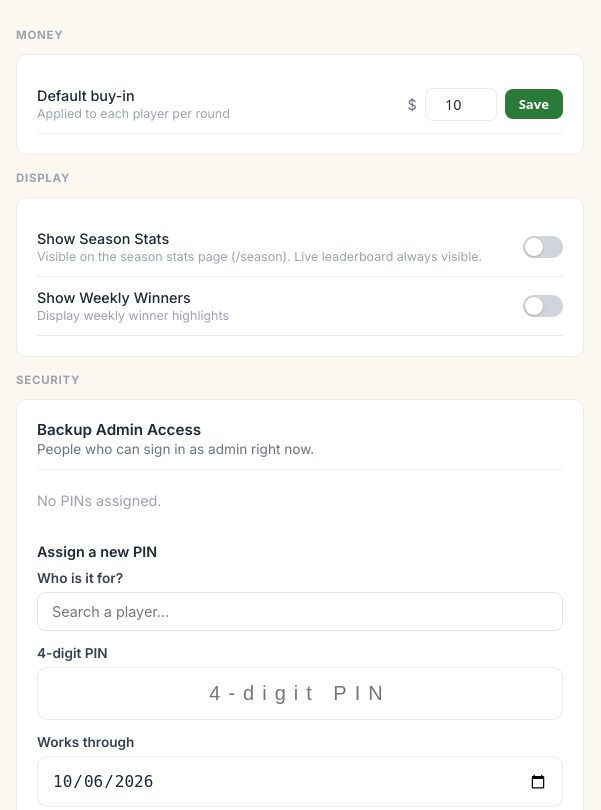
Test: Backup Admin Access — assign form › requires a player before assigning
This screenshot has width=601, height=810.
Type "1234" into the field with id "backup-pin-digits". click: (300, 694)
box: top-left (37, 667), bottom-right (563, 720)
(page scrolled)
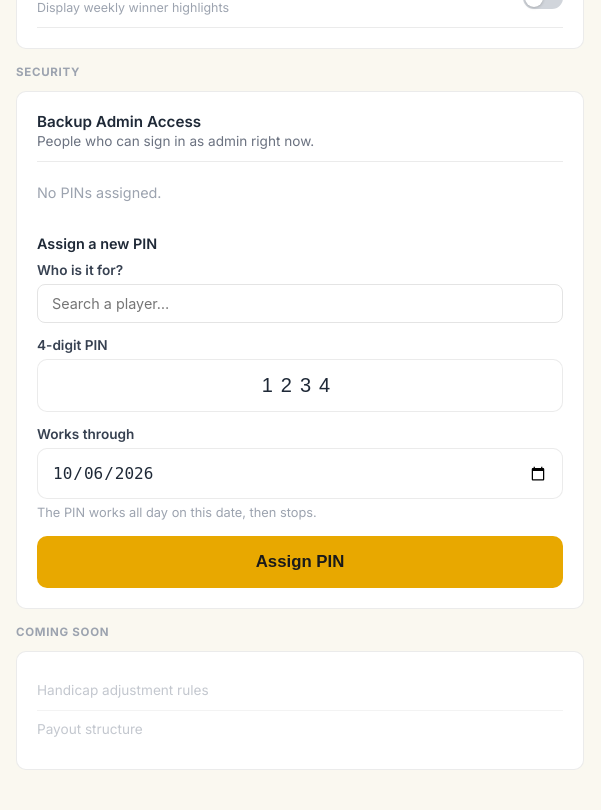
Click the button "Assign PIN". click: click(300, 562)
box: top-left (37, 536), bottom-right (563, 588)
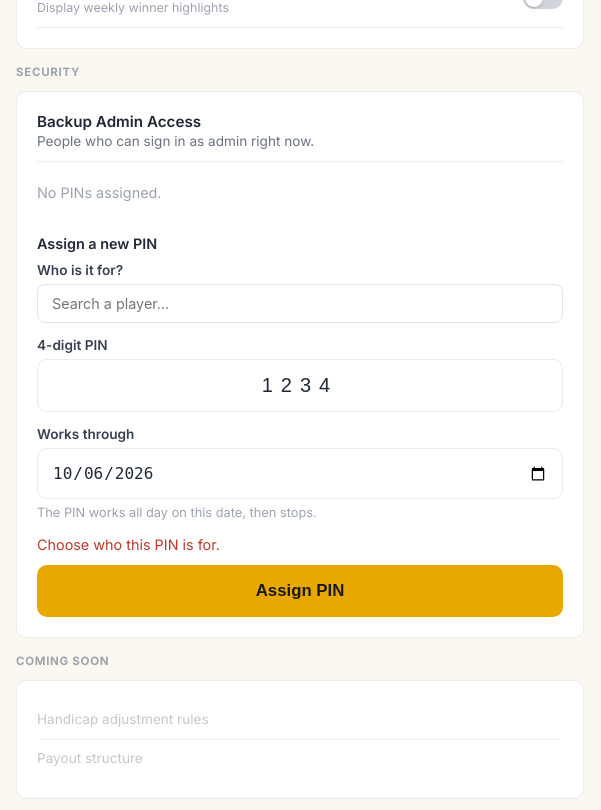
Now the message reads "Choose who this PIN is for.", box top-left (37, 536), bottom-right (220, 553)
